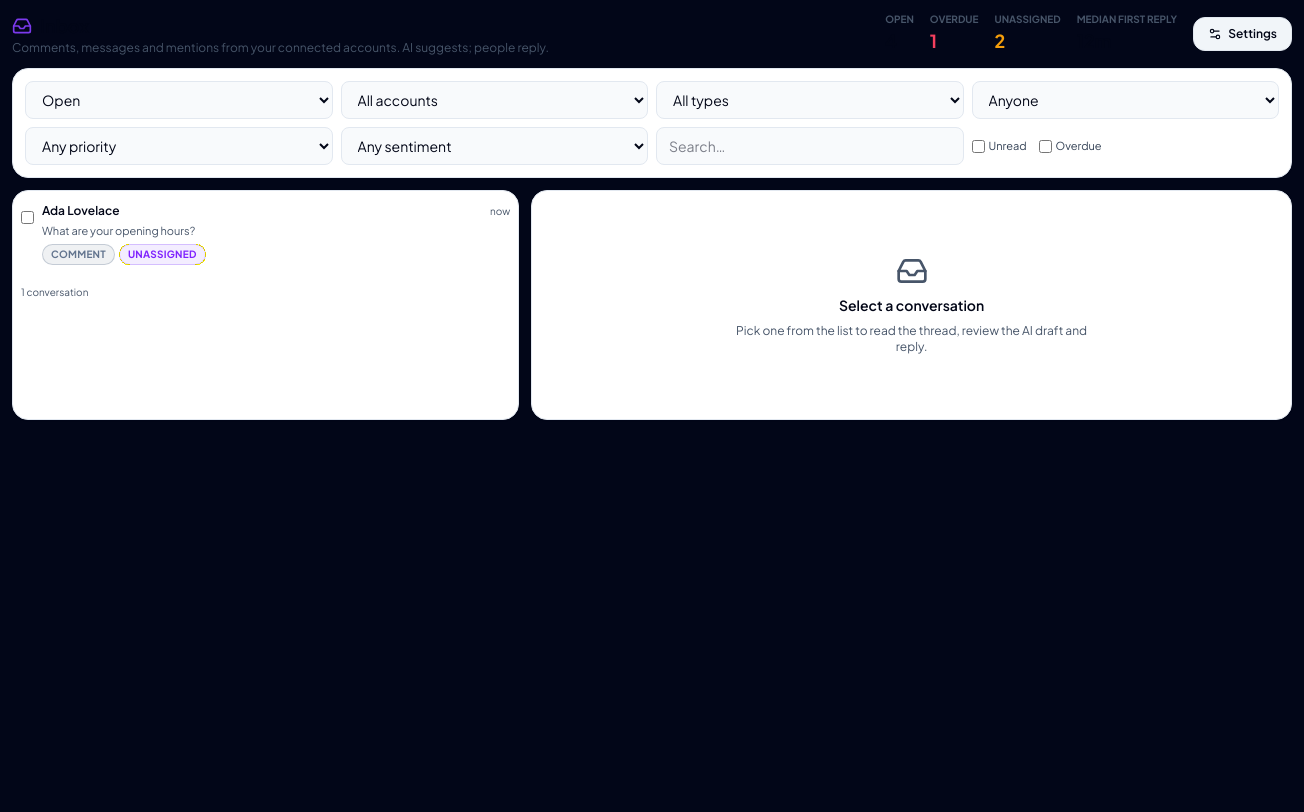
Test: conversation view › shows failed guardrails with their reasons
The width and height of the screenshot is (1304, 812).
Click the button "Ada Lovelace": [81, 210] box [42,199,510,268]
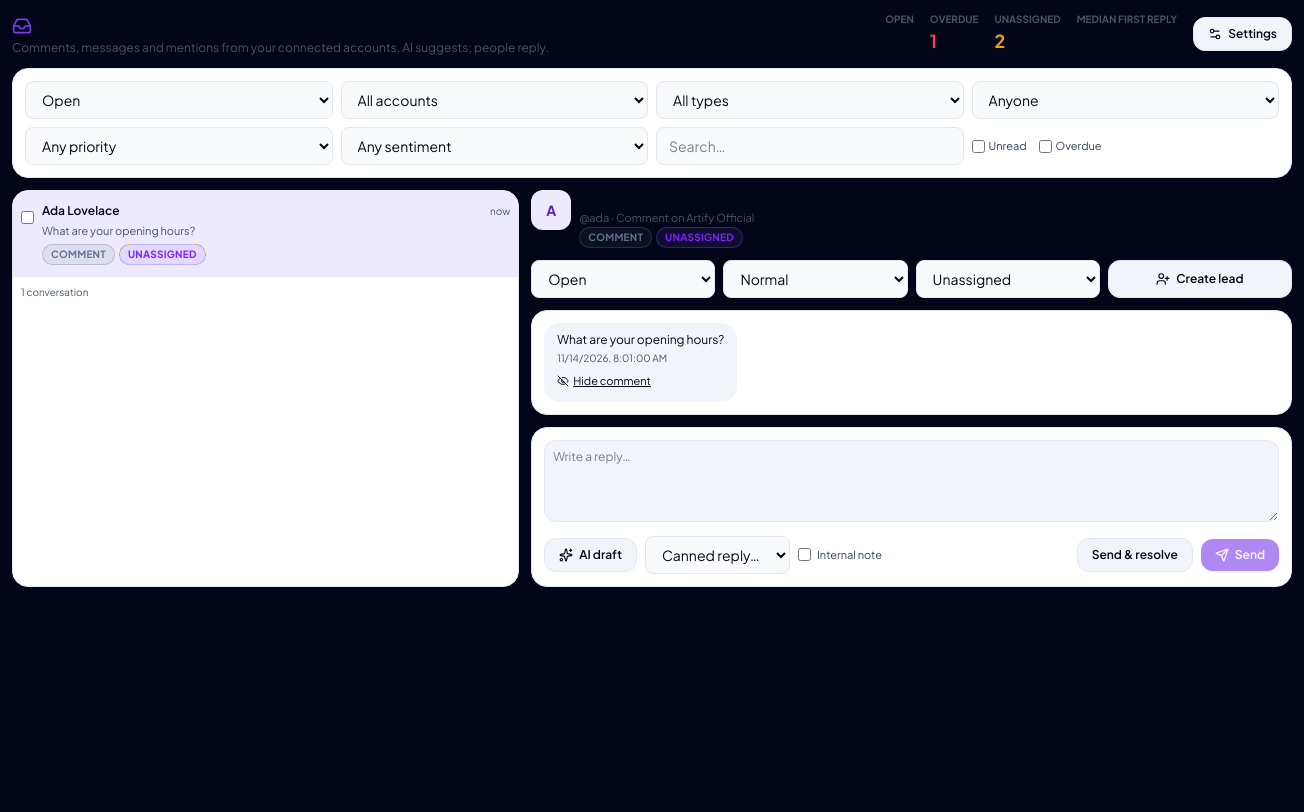
Check: the list named "Conversation thread" is shown, box [544,322,737,402]
Click the button "AI draft": [591, 555] box [544,538,637,572]
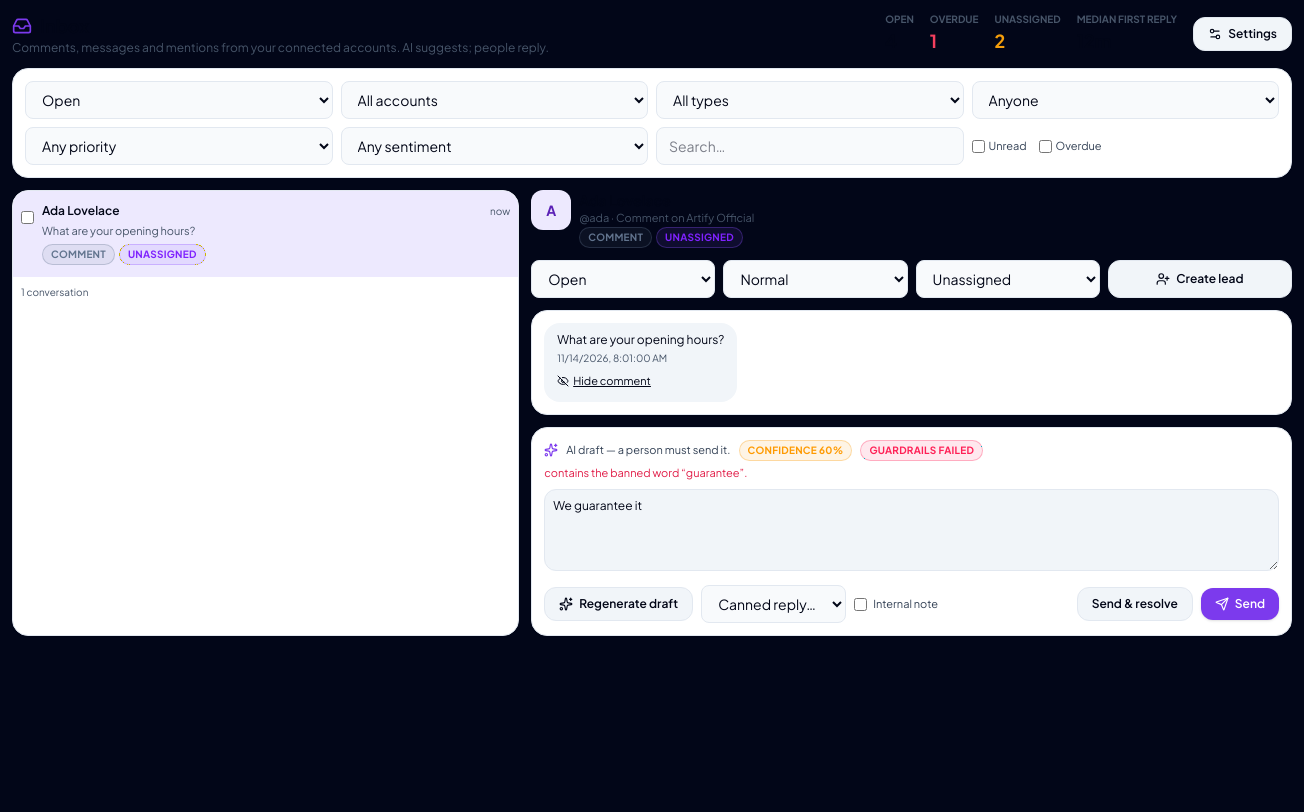
Check: the text "Guardrails failed" is shown, box [860,440,983,461]
Check: the text "contains the banned word “guarantee”." is shown, box [544,466,747,479]
Check: the text "Confidence 60%" is shown, box [738,440,852,461]
